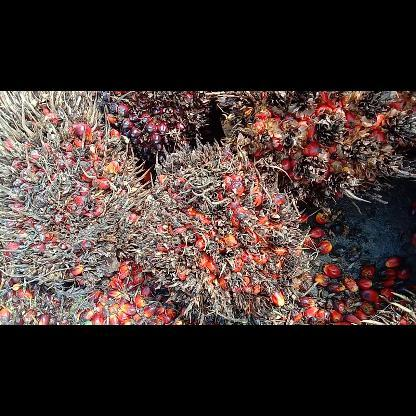Terlalu masak: (133, 139, 320, 324), (0, 90, 155, 300), (205, 90, 415, 208), (92, 91, 212, 167)
